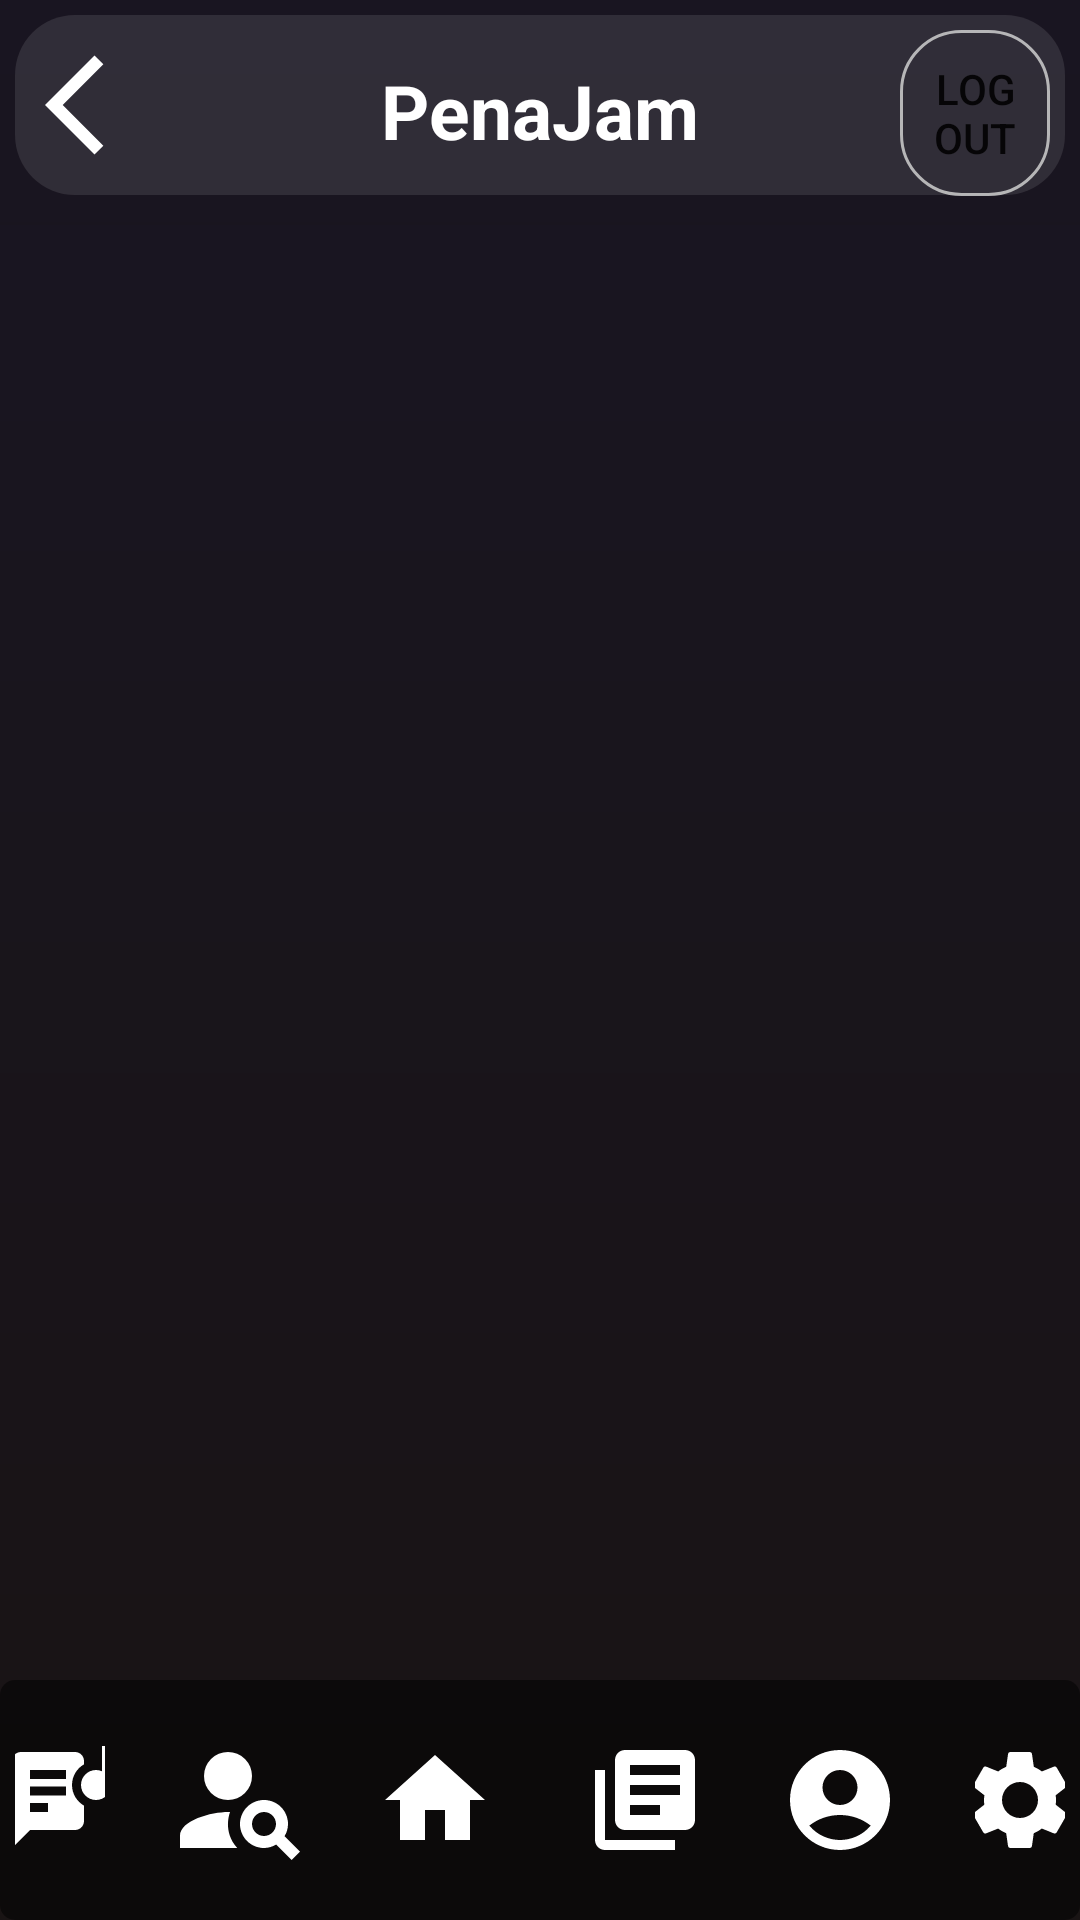

Screen size 1080 x 1920. Icon name, then its box in pixels as (x1, y1, x2, y2):
account circle: (790, 1750, 890, 1850)
home: (385, 1755, 485, 1840)
library books: (595, 1750, 695, 1850)
lyrics: (15, 1746, 105, 1845)
person search: (180, 1752, 300, 1860)
settings: (975, 1752, 1065, 1848)
